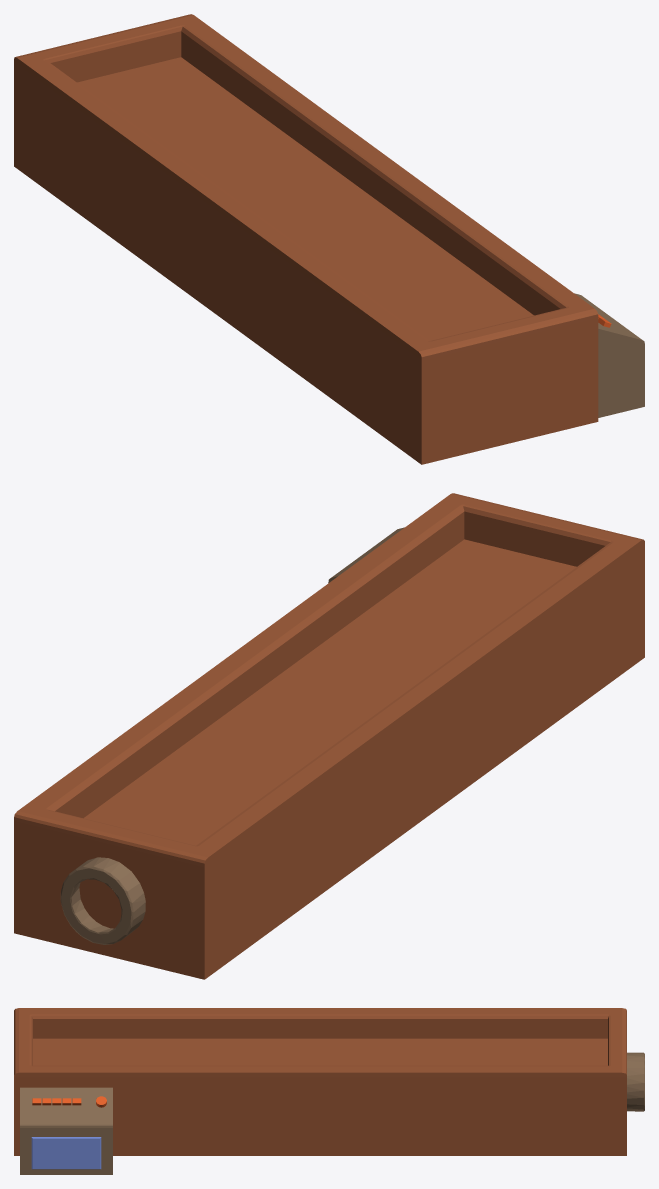
The model's file is Kasvatusalusta2.fbx.
The picture shows the model from 3 angles, top to bottom: view 1: azimuth 30°, elevation 25°; view 2: azimuth 150°, elevation 25°; view 3: azimuth 270°, elevation 25°; orthographic projection. The views are drawn at different scales.
Visible parts, largest first — view 1: Cube, Object; view 2: Cube, Cylinder; view 3: Cube, Object, Cylinder.
Boxes of the visible parts, x1=… form: Cube: x1=14, y1=14, x2=598, y2=464; Object: x1=574, y1=293, x2=644, y2=417; Cube: x1=14, y1=493, x2=644, y2=979; Cylinder: x1=60, y1=857, x2=145, y2=944; Cube: x1=14, y1=1008, x2=626, y2=1155; Object: x1=20, y1=1087, x2=112, y2=1174; Cylinder: x1=627, y1=1052, x2=644, y2=1111.
Bounding box in the file's own units: 81.2 × 37.58 × 257.
